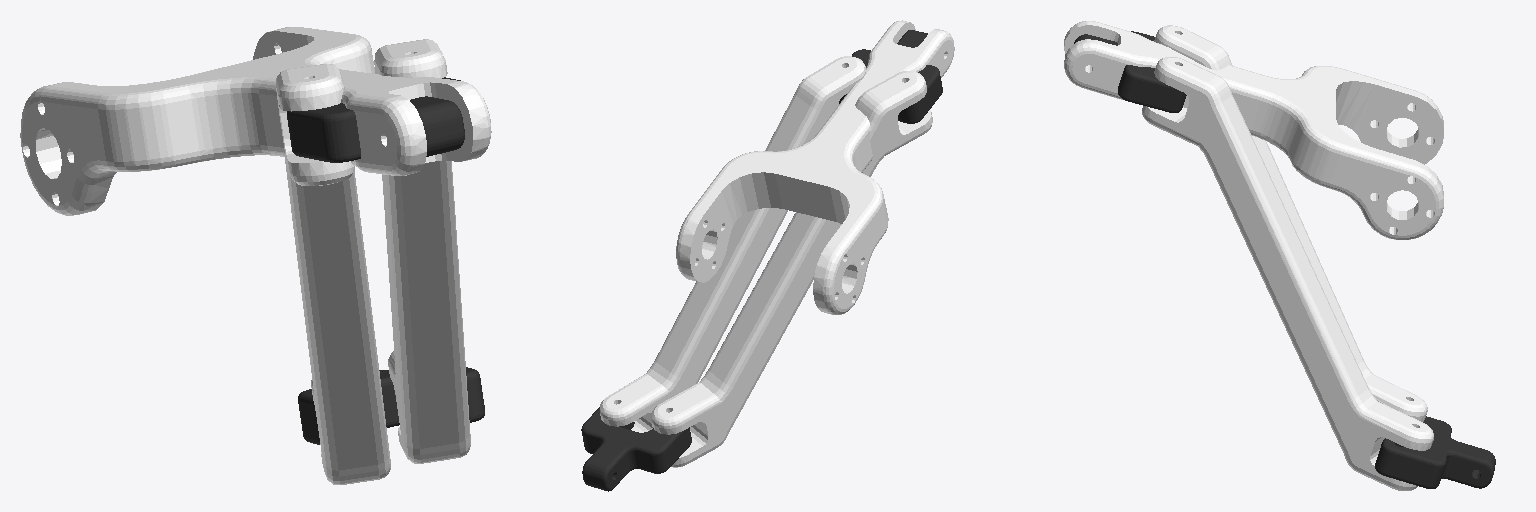
The robot description file, URDF, robot "blue02":
<?xml version="1.0" encoding="utf-8"?>
<!-- This URDF was automatically created by SolidWorks to URDF Exporter! Originally created by [author] ([email redacted]) 
     Commit Version: 1.6.0-1-g15f4949  Build Version: 1.6.7594.29634
     For more information, please see http://wiki.ros.org/sw_urdf_exporter -->
<robot
  name="blue02">
  <link
    name="base_link">
    <inertial>
      <origin
        xyz="0.0001808612784363 0.0180191600373319 -0.0010066992638707"
        rpy="0 0 0" />
      <mass
        value="0.222069356338279" />
      <inertia
        ixx="0.00013051726595754"
        ixy="4.11179123299775E-07"
        ixz="-2.02778699571397E-08"
        iyy="0.000330666767704576"
        iyz="1.51165378052728E-06"
        izz="0.000241825516008571" />
    </inertial>
    <visual>
      <origin
        xyz="0 0 0"
        rpy="0 0 0" />
      <geometry>
        <mesh
          filename="package://blue02/meshes/base_link.STL" />
      </geometry>
      <material
        name="">
        <color
          rgba="0.752941176470588 0.752941176470588 0.752941176470588 1" />
      </material>
    </visual>
    <collision>
      <origin
        xyz="0 0 0"
        rpy="0 0 0" />
      <geometry>
        <mesh
          filename="package://blue02/meshes/base_link.STL" />
      </geometry>
    </collision>
  </link>
  <link
    name="Link1">
    <inertial>
      <origin
        xyz="-0.0343174966874236 -0.00344507312875845 -0.0230620305997283"
        rpy="0 0 0" />
      <mass
        value="0.0168488269980785" />
      <inertia
        ixx="2.77327908754805E-06"
        ixy="-3.22105701183017E-07"
        ixz="-2.26775561062583E-12"
        iyy="1.21496555654029E-05"
        iyz="-5.00426200709654E-13"
        izz="9.92161165241104E-06" />
    </inertial>
    <visual>
      <origin
        xyz="0 0 0"
        rpy="0 0 0" />
      <geometry>
        <mesh
          filename="package://blue02/meshes/Link1.STL" />
      </geometry>
      <material
        name="">
        <color
          rgba="1 1 1 1" />
      </material>
    </visual>
    <collision>
      <origin
        xyz="0 0 0"
        rpy="0 0 0" />
      <geometry>
        <mesh
          filename="package://blue02/meshes/Link1.STL" />
      </geometry>
    </collision>
  </link>
  <joint
    name="Joint1"
    type="continuous">
    <origin
      xyz="0.004938 -0.0395 0.040325"
      rpy="-1.5708 0.31922 1.5708" />
    <parent
      link="base_link" />
    <child
      link="Link1" />
    <axis
      xyz="0 0 -1" />
    <limit
      lower="0"
      upper="0"
      effort="0"
      velocity="0" />
  </joint>
  <link
    name="Link2">
    <inertial>
      <origin
        xyz="0.0126 0.0119177461611013 1.196959198424E-14"
        rpy="0 0 0" />
      <mass
        value="0.00283590714079142" />
      <inertia
        ixx="1.38027104044294E-07"
        ixy="-3.51738268802297E-24"
        ixz="1.79362883603125E-23"
        iyy="1.58449114328455E-07"
        iyz="3.97046694025453E-23"
        izz="2.69919583243166E-07" />
    </inertial>
    <visual>
      <origin
        xyz="0 0 0"
        rpy="0 0 0" />
      <geometry>
        <mesh
          filename="package://blue02/meshes/Link2.STL" />
      </geometry>
      <material
        name="">
        <color
          rgba="0.250980392156863 0.250980392156863 0.250980392156863 1" />
      </material>
    </visual>
    <collision>
      <origin
        xyz="0 0 0"
        rpy="0 0 0" />
      <geometry>
        <mesh
          filename="package://blue02/meshes/Link2.STL" />
      </geometry>
    </collision>
  </link>
  <joint
    name="Joint2"
    type="continuous">
    <origin
      xyz="-0.08 -0.004 -0.010662"
      rpy="1.6021 1.5708 0" />
    <parent
      link="Link1" />
    <child
      link="Link2" />
    <axis
      xyz="1 0 0" />
    <limit
      lower="0"
      upper="0"
      effort="0"
      velocity="0" />
  </joint>
  <link
    name="Link3">
    <inertial>
      <origin
        xyz="-0.0301999999999765 0.0420000000000081 8.40492935319515E-09"
        rpy="0 0 0" />
      <mass
        value="0.0115483860896402" />
      <inertia
        ixx="6.99727115654008E-06"
        ixy="6.05605579279737E-06"
        ixz="3.28225267061041E-21"
        iyy="5.72454936139626E-06"
        iyz="-4.02340649945793E-21"
        izz="1.2540943263813E-05" />
    </inertial>
    <visual>
      <origin
        xyz="0 0 0"
        rpy="0 0 0" />
      <geometry>
        <mesh
          filename="package://blue02/meshes/Link3.STL" />
      </geometry>
      <material
        name="">
        <color
          rgba="1 1 1 1" />
      </material>
    </visual>
    <collision>
      <origin
        xyz="0 0 0"
        rpy="0 0 0" />
      <geometry>
        <mesh
          filename="package://blue02/meshes/Link3.STL" />
      </geometry>
    </collision>
  </link>
  <joint
    name="Joint3"
    type="continuous">
    <origin
      xyz="0.0214 0.02 0"
      rpy="1.6389 -1.5708 -2.0564" />
    <parent
      link="Link2" />
    <child
      link="Link3" />
    <axis
      xyz="-1 0 0" />
    <limit
      lower="0"
      upper="0"
      effort="0"
      velocity="0" />
  </joint>
  <link
    name="Link4">
    <inertial>
      <origin
        xyz="-0.0301999999999559 0.042000000000024 8.40489629977403E-09"
        rpy="0 0 0" />
      <mass
        value="0.0115483860896403" />
      <inertia
        ixx="6.9972711565401E-06"
        ixy="6.05605579279738E-06"
        ixz="-3.49401090742399E-21"
        iyy="5.72454936139628E-06"
        iyz="2.32934060494933E-21"
        izz="1.25409432638131E-05" />
    </inertial>
    <visual>
      <origin
        xyz="0 0 0"
        rpy="0 0 0" />
      <geometry>
        <mesh
          filename="package://blue02/meshes/Link4.STL" />
      </geometry>
      <material
        name="">
        <color
          rgba="1 1 1 1" />
      </material>
    </visual>
    <collision>
      <origin
        xyz="0 0 0"
        rpy="0 0 0" />
      <geometry>
        <mesh
          filename="package://blue02/meshes/Link4.STL" />
      </geometry>
    </collision>
  </link>
  <joint
    name="Joint4"
    type="continuous">
    <origin
      xyz="0.0038 0.02 0"
      rpy="1.55 -1.5708 -2.012" />
    <parent
      link="Link2" />
    <child
      link="Link4" />
    <axis
      xyz="-1 0 0" />
    <limit
      lower="0"
      upper="0"
      effort="0"
      velocity="0" />
  </joint>
  <link
    name="Link5">
    <inertial>
      <origin
        xyz="5.31380495161216E-14 0.00991774616108076 -6.93889390390723E-17"
        rpy="0 0 0" />
      <mass
        value="0.00283590714079142" />
      <inertia
        ixx="1.38027104044293E-07"
        ixy="-3.00383054696694E-21"
        ixz="9.21812187730928E-23"
        iyy="1.58449114328455E-07"
        iyz="4.55908866414727E-20"
        izz="2.69919583243166E-07" />
    </inertial>
    <visual>
      <origin
        xyz="0 0 0"
        rpy="0 0 0" />
      <geometry>
        <mesh
          filename="package://blue02/meshes/Link5.STL" />
      </geometry>
      <material
        name="">
        <color
          rgba="0.250980392156863 0.250980392156863 0.250980392156863 1" />
      </material>
    </visual>
    <collision>
      <origin
        xyz="0 0 0"
        rpy="0 0 0" />
      <geometry>
        <mesh
          filename="package://blue02/meshes/Link5.STL" />
      </geometry>
    </collision>
  </link>
  <joint
    name="Joint5"
    type="fixed">
    <origin
      xyz="-0.0604 0.10399 -0.0013692"
      rpy="-1.5708 -1.1845 -1.5708" />
    <parent
      link="Link4" />
    <child
      link="Link5" />
    <axis
      xyz="0 0 0" />
    <limit
      lower="0"
      upper="0"
      effort="0"
      velocity="0" />
  </joint>
</robot>

--- Facts derived from the render (not from the file) ---
3 views of the same robot in one strip: view 1: azimuth 30°, elevation 25°; view 2: azimuth 150°, elevation 25°; view 3: azimuth 270°, elevation 25° (orthographic).
Model blue02 with 6 links and 5 joints (4 continuous, 1 fixed), rooted at base_link, posed all joints at 0.
Visible links, largest first — view 1: Link1, Link4, Link3, Link2, Link5; view 2: Link1, Link4, Link3, Link5, Link2; view 3: Link1, Link3, Link4, Link5, Link2.
Boxes of the visible links, box(x1,y1,x2,y2) form: Link1: box(20, 27, 491, 215); Link4: box(276, 64, 390, 484); Link3: box(374, 39, 470, 463); Link2: box(287, 77, 464, 162); Link5: box(298, 367, 484, 444); Link1: box(676, 20, 954, 314); Link4: box(651, 71, 932, 467); Link3: box(600, 56, 865, 432); Link5: box(581, 407, 691, 491); Link2: box(839, 30, 942, 123); Link1: box(1064, 21, 1443, 239); Link3: box(1142, 57, 1433, 490); Link4: box(1154, 25, 1427, 421); Link5: box(1375, 416, 1495, 488); Link2: box(1074, 31, 1186, 112).
Bounding box of the posed robot: 0.0739 × 0.103 × 0.1005 m (x, y, z).
5 mesh visuals loaded from 6 distinct referenced files (5 binary STL); not drawn: 1 (reference not matched to a file when rendering).